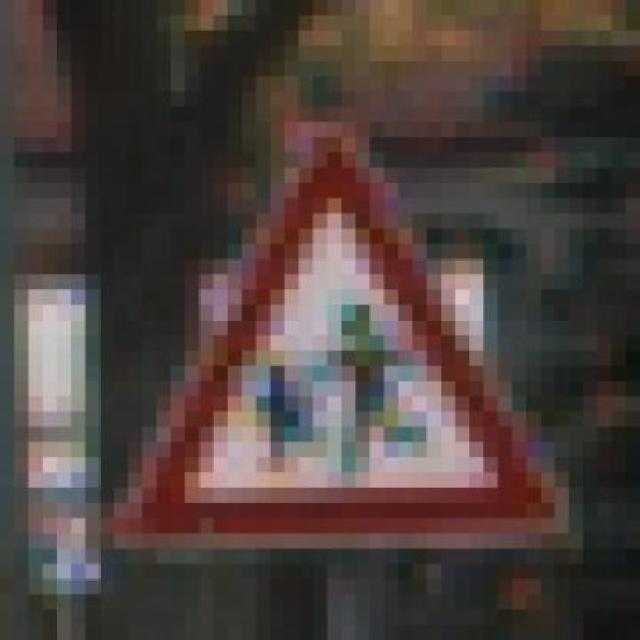Beware of children: (85, 119, 583, 561)
